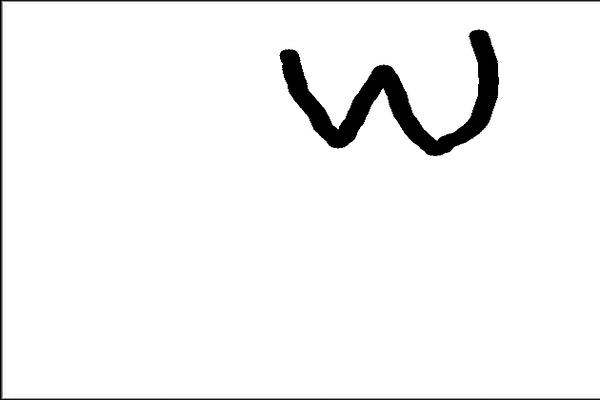w: (262, 24, 508, 169)
